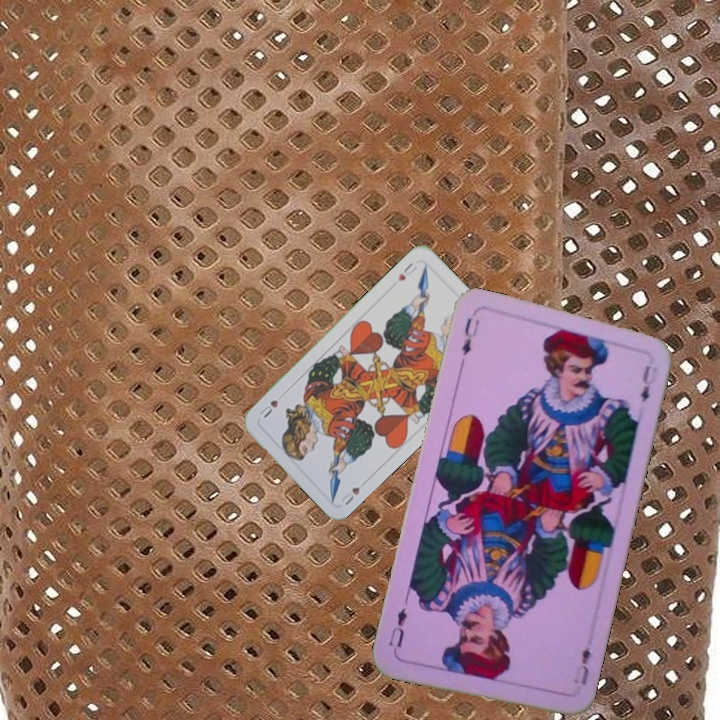EU: (456, 313, 483, 371), (576, 642, 594, 688)
HU: (393, 258, 419, 284), (337, 483, 362, 509)
